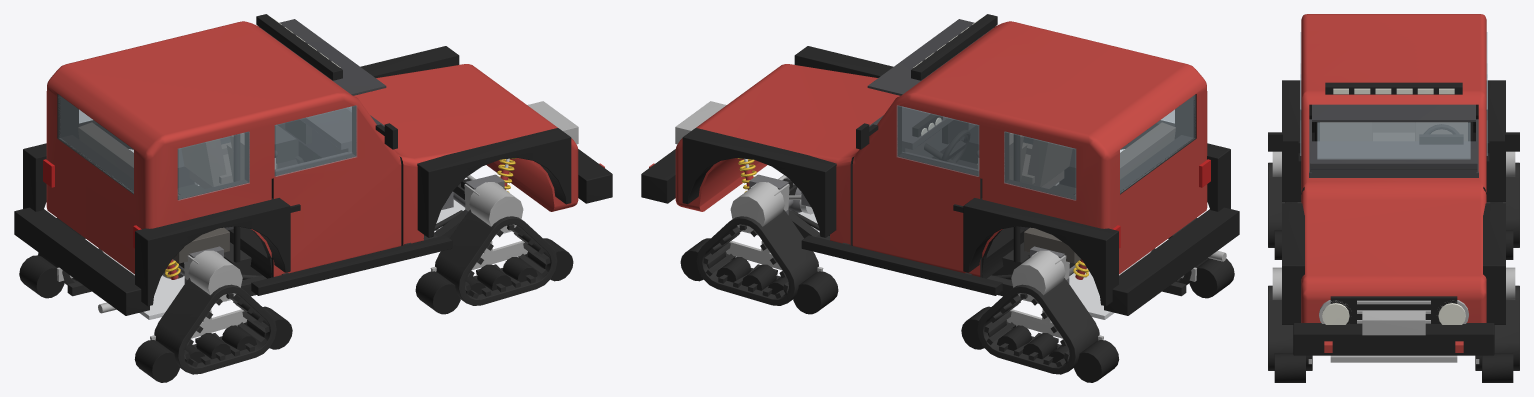
The model's file is snow_truck.glb.
3 views of the same model, side by side, from view 1: azimuth 30°, elevation 25°; view 2: azimuth 150°, elevation 25°; view 3: azimuth 270°, elevation 25° (orthographic). The views are drawn at different scales.
Visible parts, largest first — view 1: BodyShell, Flare.001, Flare.003, RearBumper, Track_RR_Belt, Track_FR_Belt, Glass_SideF.001, Glass_SideR.001, Glass_Rear, RockSlider.001, Headliner, Flare (+26 smaller); view 2: BodyShell, Flare, Flare.002, RearBumper, Track_RL_Belt, Track_FL_Belt, Glass_SideF, Glass_SideR, Glass_Rear, RockSlider, Headliner, Flare.001 (+26 smaller); view 3: BodyShell, Glass_Windshield, FrontBumper, DashTop, Headliner, Flare, Flare.001, Flare.002, Flare.003, GrillePanel, Winch, Dash (+24 smaller).
Part boxes in pixels (box(x1,y1,x2,y2)): BodyShell: box(46, 21, 578, 278); Flare.001: box(417, 128, 571, 237); Flare.003: box(135, 198, 290, 306); RearBumper: box(14, 207, 149, 315); Track_RR_Belt: box(154, 278, 276, 374); Track_FR_Belt: box(435, 209, 557, 305); Glass_SideF.001: box(275, 105, 356, 176); Glass_SideR.001: box(178, 131, 249, 200); Glass_Rear: box(58, 95, 133, 193); RockSlider.001: box(251, 235, 452, 295); Headliner: box(260, 19, 386, 95); Flare: box(360, 46, 459, 77); BodyShell: box(675, 21, 1207, 278); Flare: box(682, 128, 836, 237); Flare.002: box(963, 198, 1118, 306); RearBumper: box(1104, 207, 1239, 315); Track_RL_Belt: box(977, 278, 1099, 374); Track_FL_Belt: box(696, 209, 818, 305); Glass_SideF: box(897, 105, 978, 176); Glass_SideR: box(1004, 131, 1075, 200); Glass_Rear: box(1120, 95, 1195, 193); RockSlider: box(801, 235, 1002, 295); Headliner: box(867, 19, 993, 95); Flare.001: box(794, 46, 893, 77); BodyShell: box(1301, 14, 1486, 322); Glass_Windshield: box(1317, 122, 1470, 159); FrontBumper: box(1293, 323, 1494, 355); DashTop: box(1310, 141, 1477, 169); Headliner: box(1312, 104, 1475, 121); Flare: box(1483, 203, 1505, 324); Flare.001: box(1282, 203, 1304, 324); Flare.002: box(1486, 80, 1505, 201); Flare.003: box(1282, 80, 1301, 201); GrillePanel: box(1330, 296, 1457, 323); Winch: box(1362, 310, 1425, 335); Dash: box(1310, 169, 1477, 177).
Bounding box in the file's own units: 4.91 × 2.27 × 2.38.
